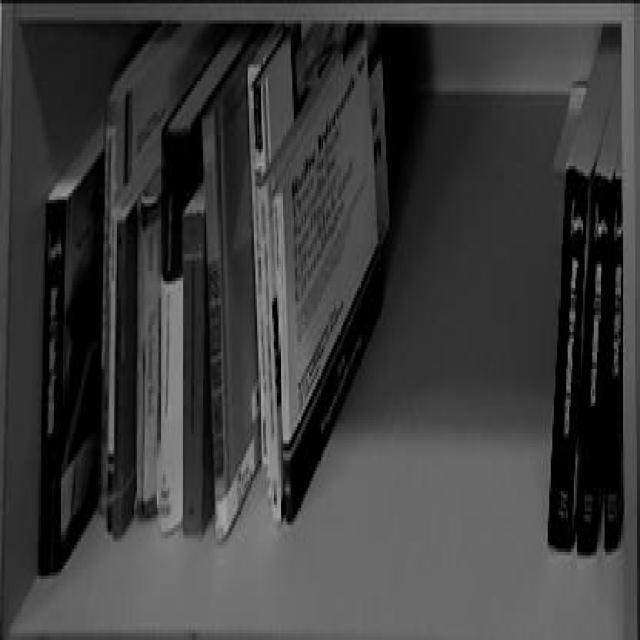book: (275, 37, 372, 518), (37, 141, 98, 576), (174, 193, 215, 535), (156, 107, 185, 545), (580, 171, 600, 562), (609, 161, 627, 560)
